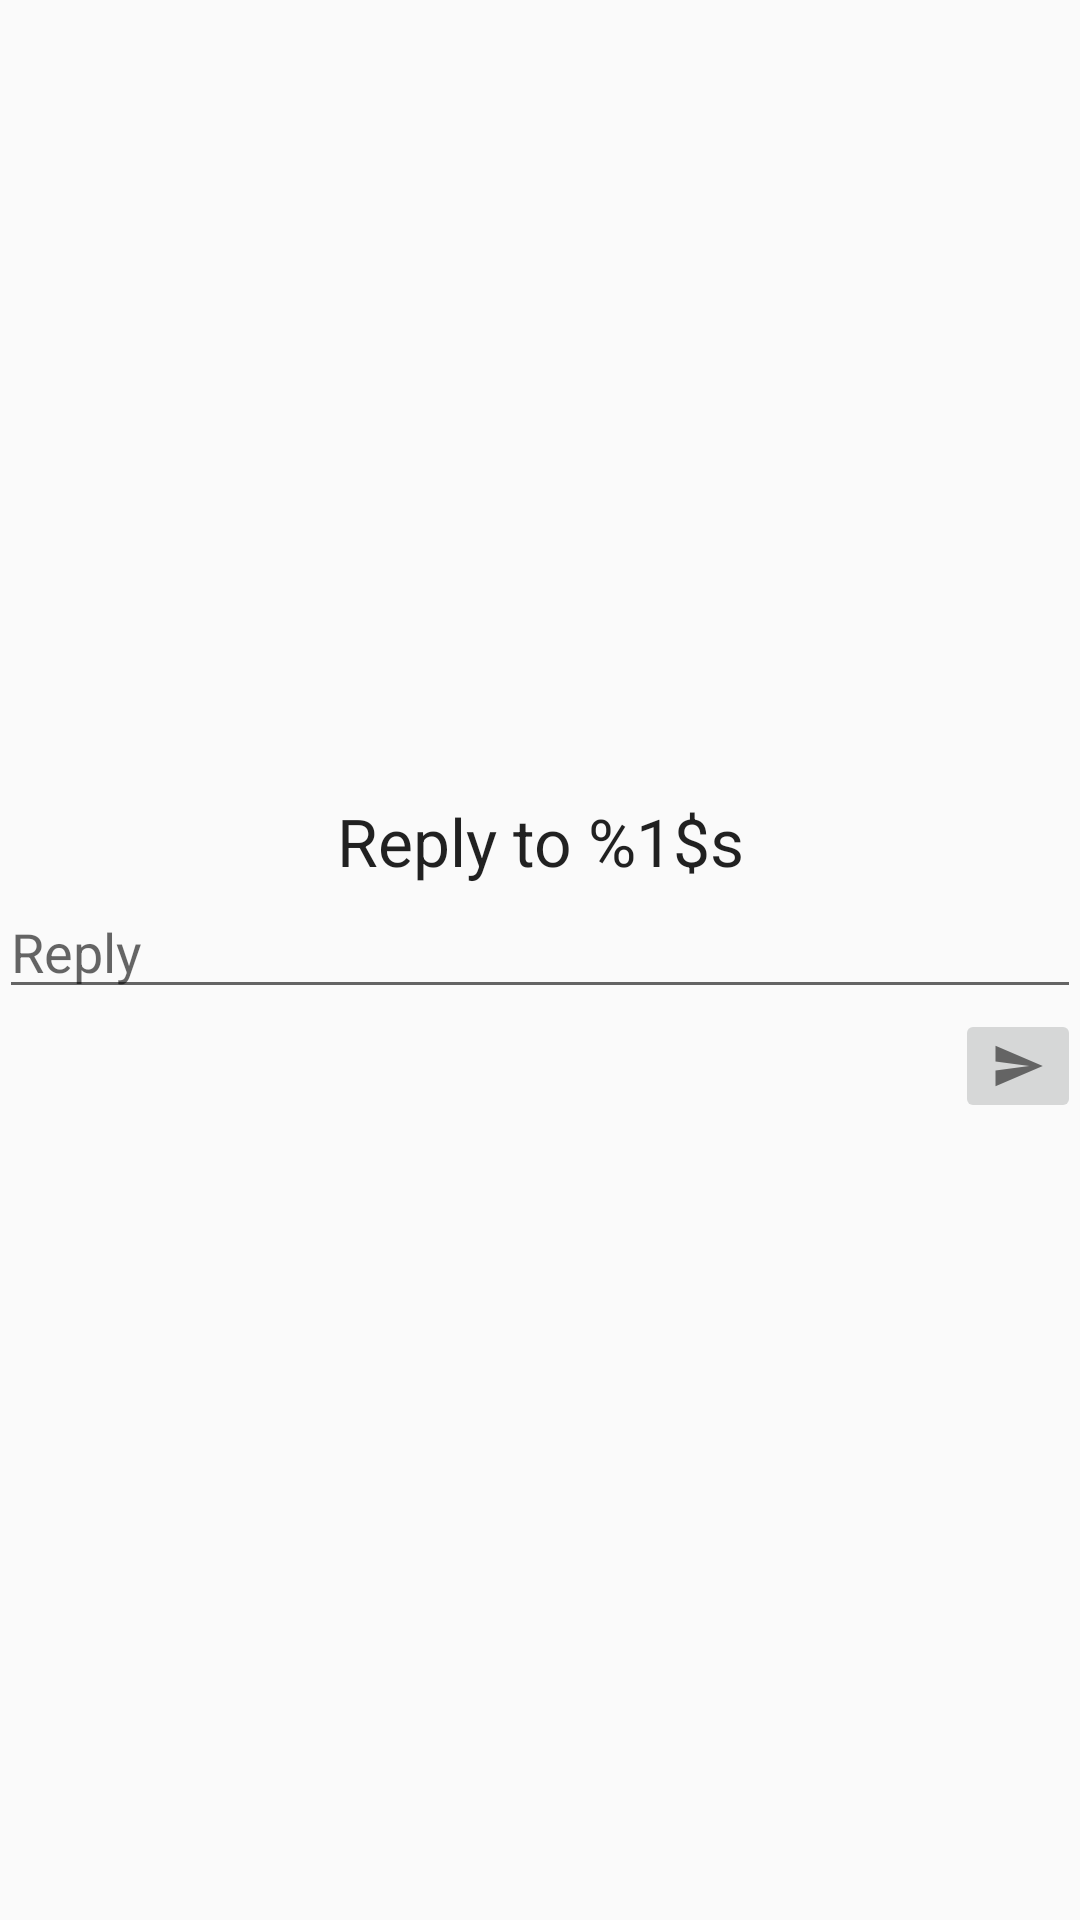

Icons on this 1080px x 1920px Android screen, each with its box as (x1=x1, y1=y1, x2=x2, y2=y2):
send: (x1=967, y1=1027, x2=1069, y2=1105)
